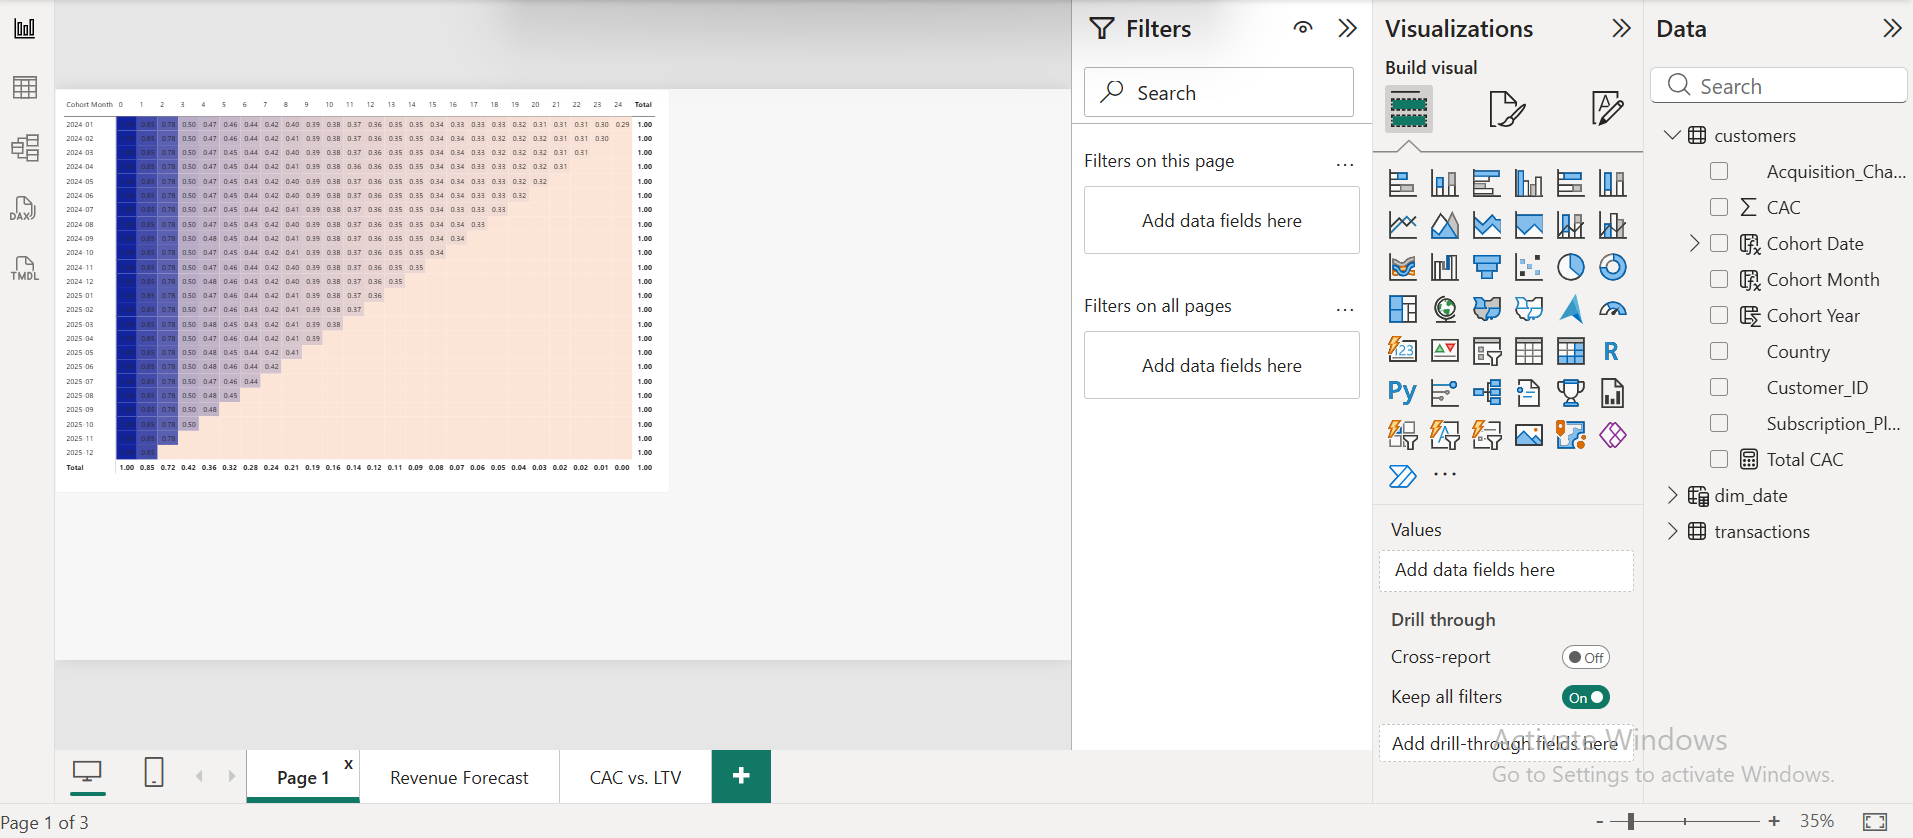

What the dashboard file says about the page in this screenshot:
{"tool":"powerbi","page":{"name":"Page 1","canvas":[1920,1080],"ordinal":0},"visuals":[{"type":"pivotTable","fields":{"Columns":["transactions.Months Since Start"],"Rows":["customers.Cohort Month"],"Values":["transactions.Retention %"]},"box":[0,0,1162.2,762.5],"z":0}]}

Visuals, with their boxes on the page's 1920x1080 design canvas (x1, y1, x2, y2). These are canvas units, not pixel positions in the 1913x838 screenshot, which may show the page scaled, cropped or inside an application window:
pivotTable - transactions.Months Since Start x customers.Cohort Month: {"x1": 0, "y1": 0, "x2": 1162, "y2": 762}
